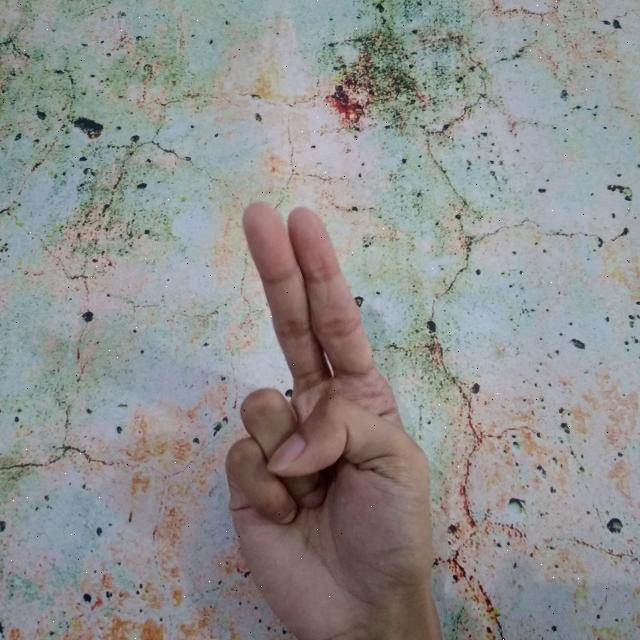U: (218, 196, 444, 640)
